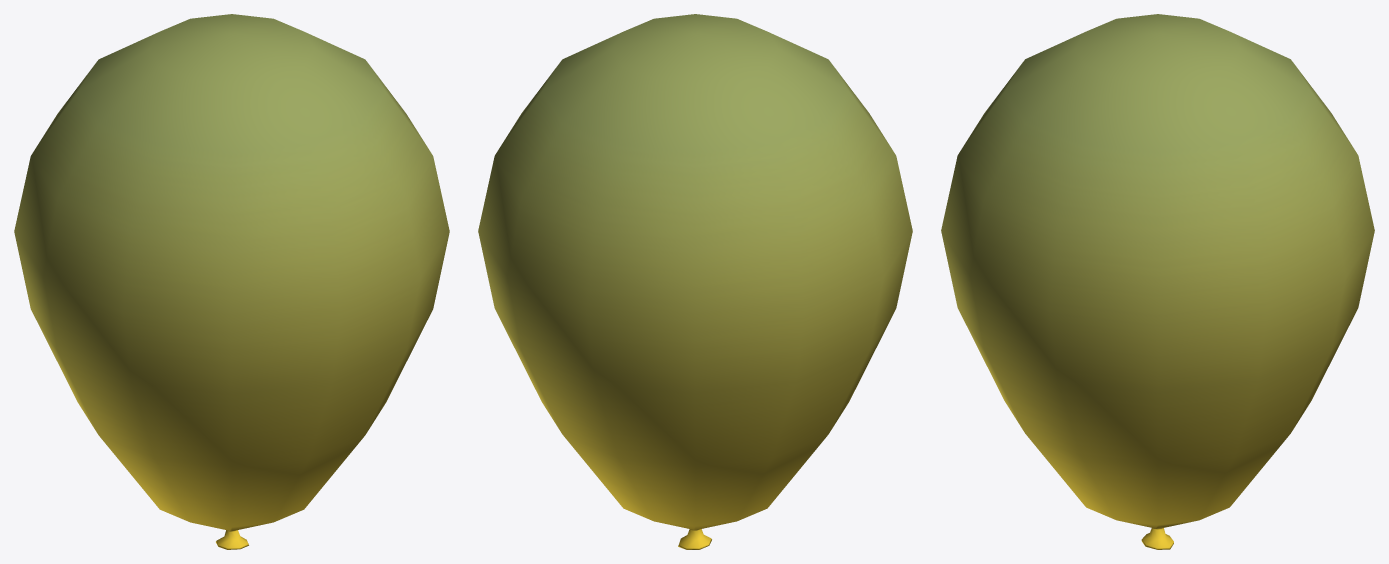
File: SM_balloon_green_light.fbx
3 views of the same model, side by side, from view 1: azimuth 30°, elevation 25°; view 2: azimuth 150°, elevation 25°; view 3: azimuth 270°, elevation 25° (orthographic).
Visible parts, largest first — view 1: Cube.028; view 2: Cube.028; view 3: Cube.028.
Boxes of the visible parts, x1,y1,x2,y2 form: Cube.028: (14,14,449,549); Cube.028: (478,14,912,549); Cube.028: (941,14,1374,549).
Size of the model in its own units: 121 by 157 by 121.
